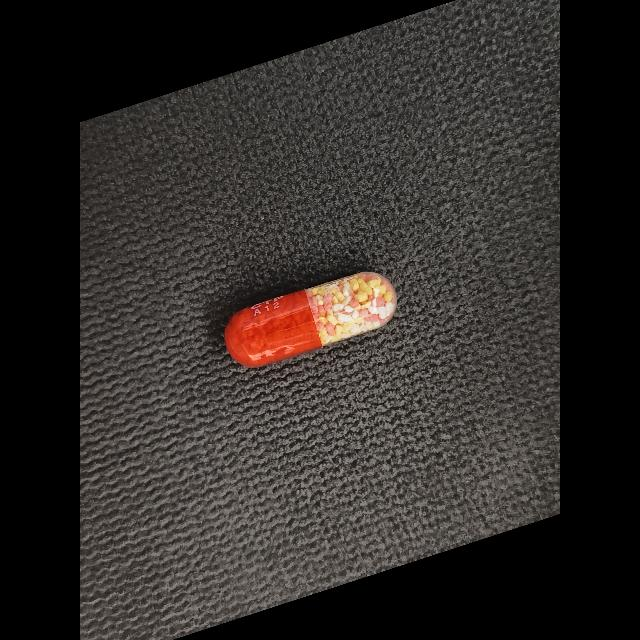Intact Capsule: (225, 271, 398, 367)
